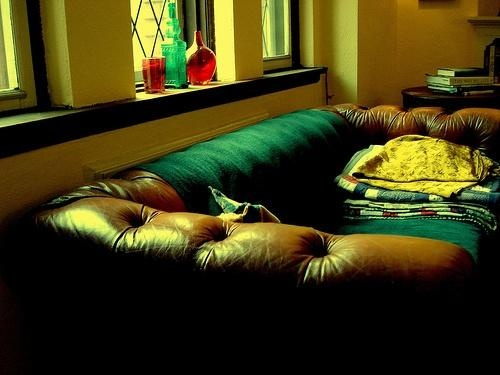sofa: (33, 103, 500, 375)
